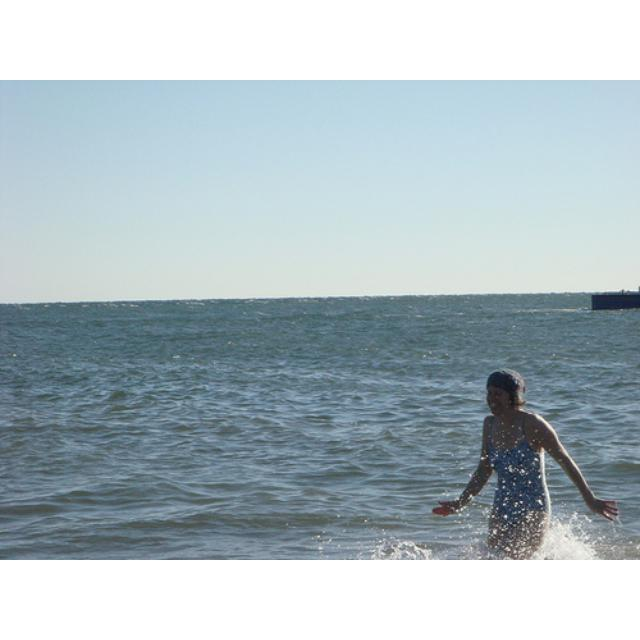human: (435, 371, 620, 559)
